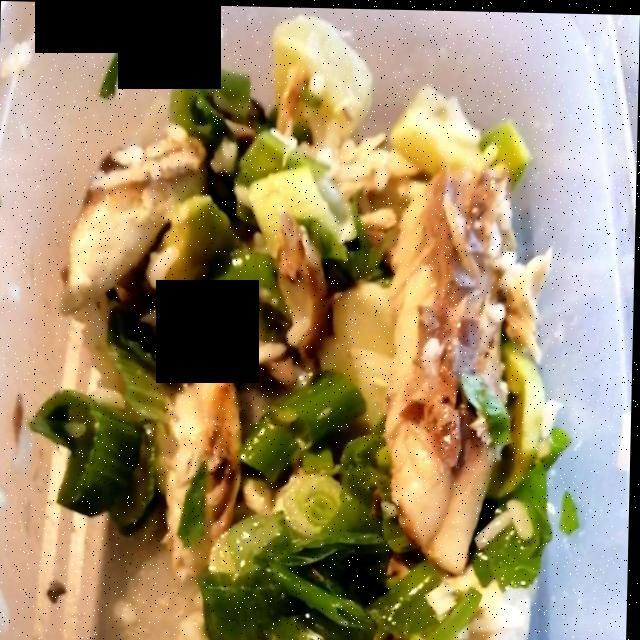rice: (317, 109, 417, 253)
